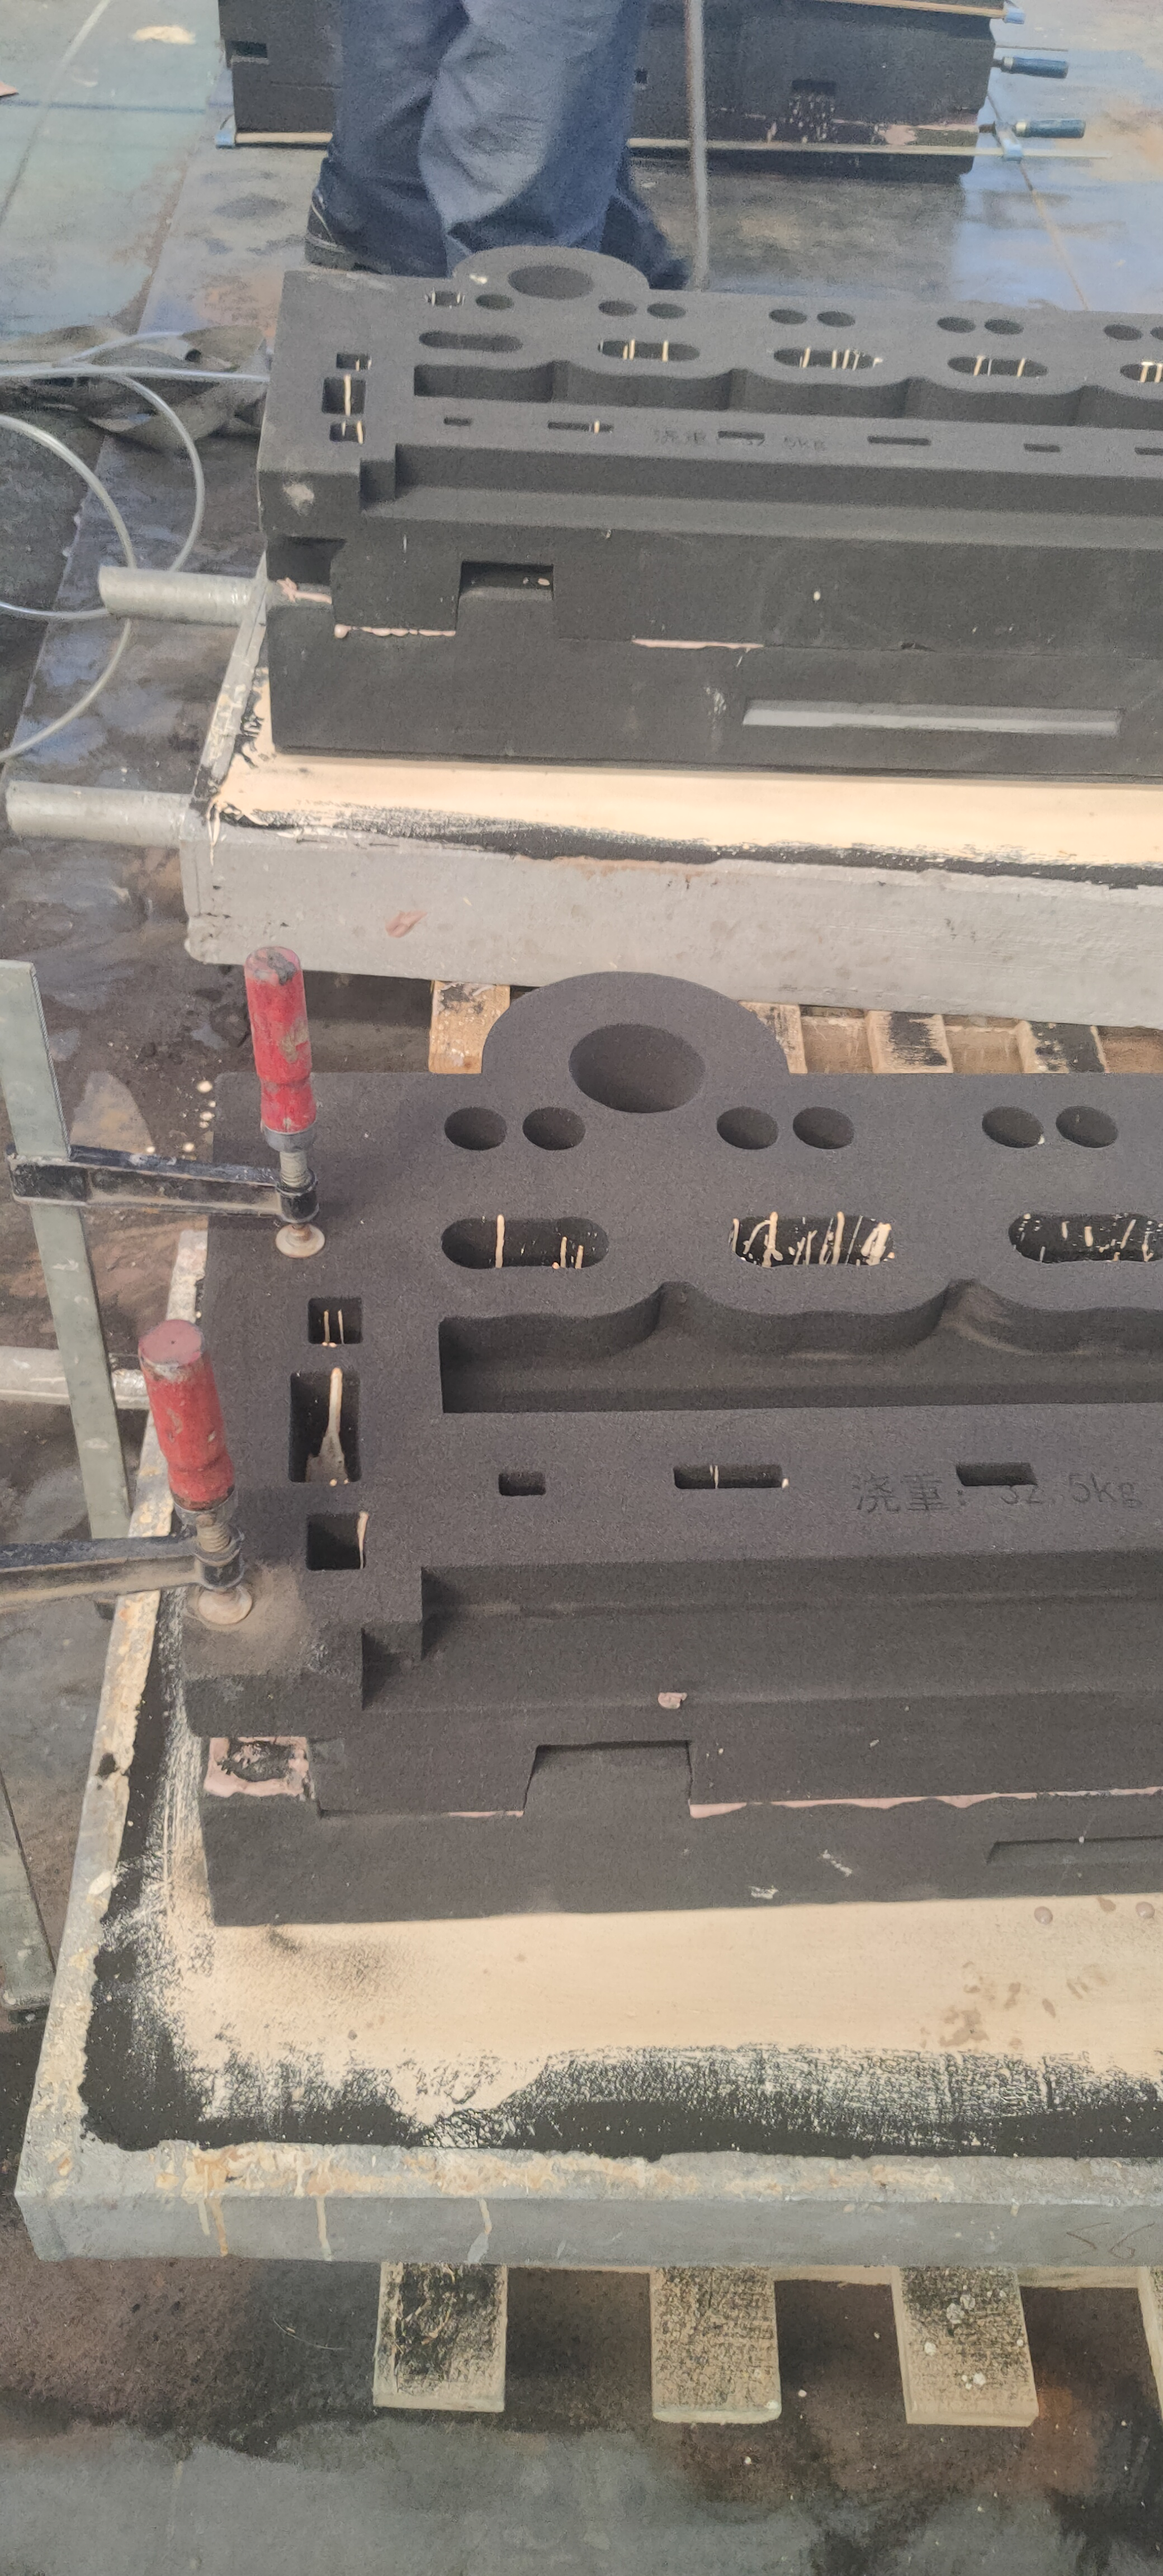pouring hole: (568, 1023, 705, 1114), (506, 266, 593, 299)
